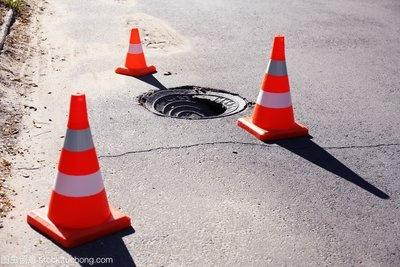cone_barrel: (38, 94, 126, 231), (243, 38, 308, 139), (116, 20, 155, 74)
